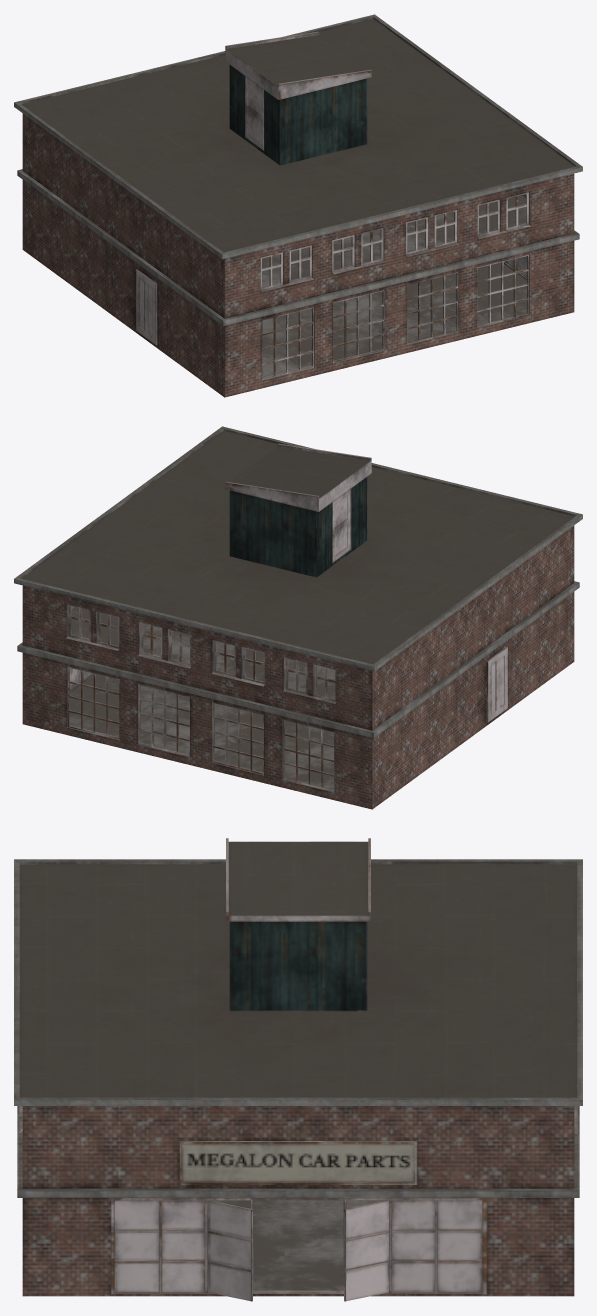
Rendered from Car Factory.fbx.
3 views of the same model, one above another, from view 1: azimuth 30°, elevation 25°; view 2: azimuth 150°, elevation 25°; view 3: azimuth 270°, elevation 25° (orthographic). The views are drawn at different scales.
Parts seen in each view (by area): view 1: Building_FAC_0, Door2_FAC_0, Door_FAC_0; view 2: Building_FAC_0, Door2_FAC_0, Door_FAC_0; view 3: Building_FAC_0.
Part boxes in pixels (box(x1,y1,x2,y2)): Building_FAC_0: box(14, 14, 582, 397); Door2_FAC_0: box(136, 269, 156, 345); Door_FAC_0: box(245, 76, 263, 149); Building_FAC_0: box(14, 426, 582, 809); Door2_FAC_0: box(487, 647, 507, 722); Door_FAC_0: box(332, 489, 350, 562); Building_FAC_0: box(14, 838, 582, 1301).
Bounding box in the file's own units: 12.66 × 7.47 × 12.42.
3 materials, 3 textured.
